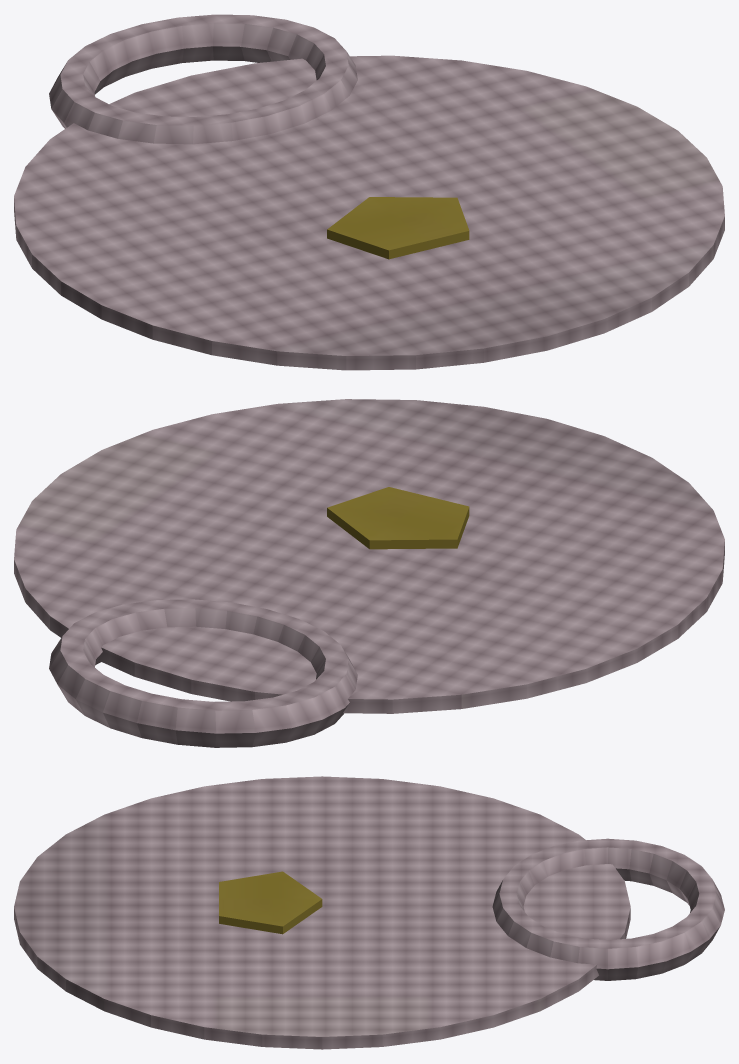
File: CL10_BabyBib.glb
The picture shows the model from 3 angles, top to bottom: view 1: azimuth 30°, elevation 25°; view 2: azimuth 150°, elevation 25°; view 3: azimuth 270°, elevation 25°; orthographic projection. The views are drawn at different scales.
Visible parts, largest first — view 1: CL10_BabyBib; view 2: CL10_BabyBib; view 3: CL10_BabyBib.
Boxes of the visible parts, x1,y1,x2,y2 form: CL10_BabyBib: (14,14,724,370); CL10_BabyBib: (14,399,724,747); CL10_BabyBib: (14,776,724,1049).
Size of the model in its own units: 0.1735 by 0.01 by 0.2.
Materials: 2 (2 with a texture image).
